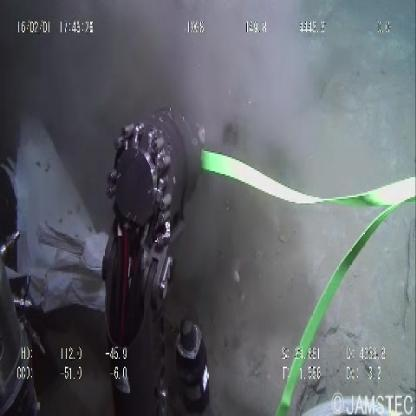Rov: (100, 100, 223, 408)
Rác: (4, 114, 111, 319)
